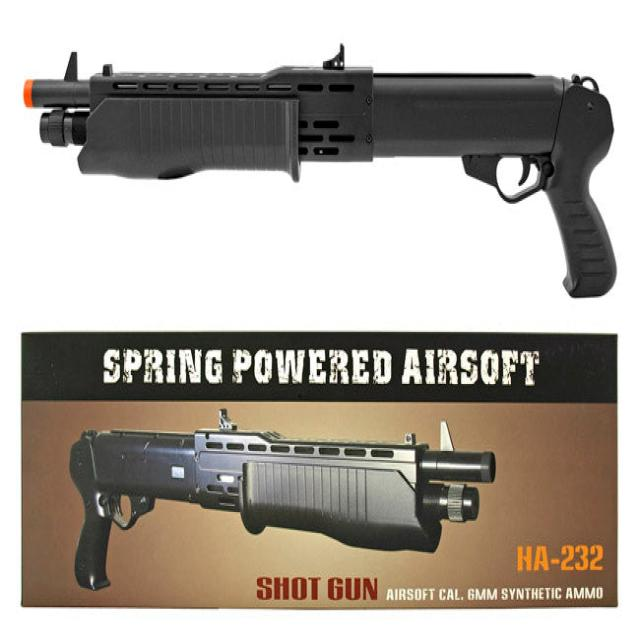ShotGun: (26, 55, 616, 295), (68, 409, 497, 591)
